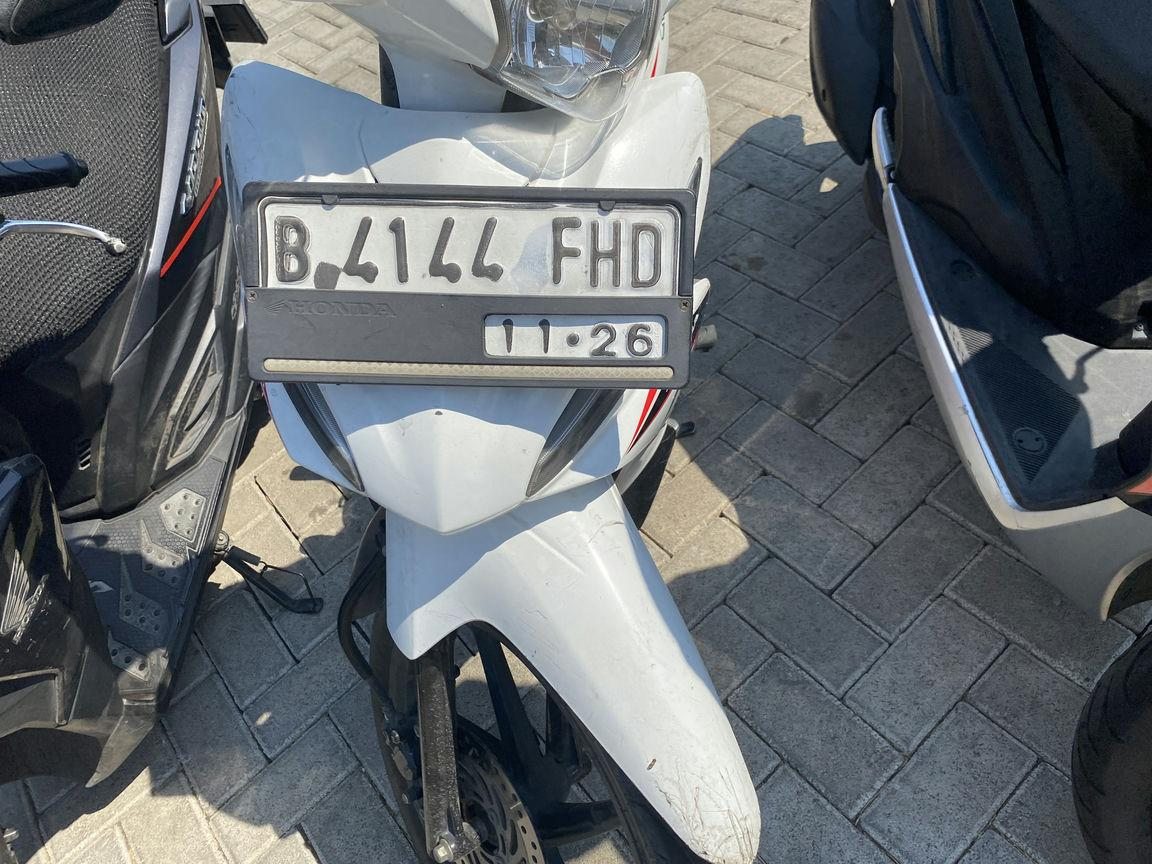plat: (243, 182, 695, 387)
